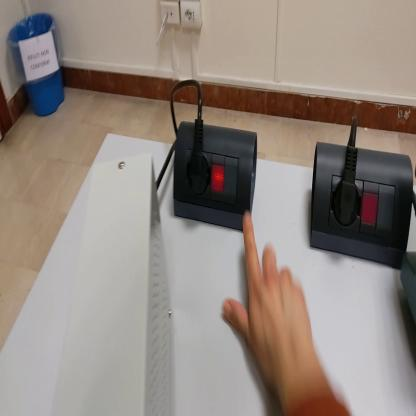hand: (223, 211, 320, 396)
oscilloscope: (401, 250, 416, 326)
power supply: (54, 161, 181, 415)
socket: (311, 146, 415, 268), (175, 124, 258, 235)
